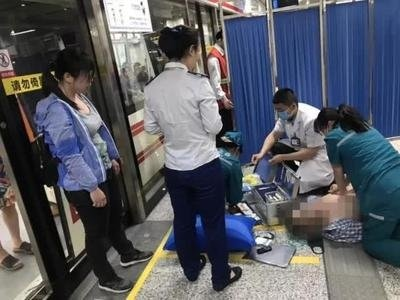falling: (272, 172, 386, 260)
